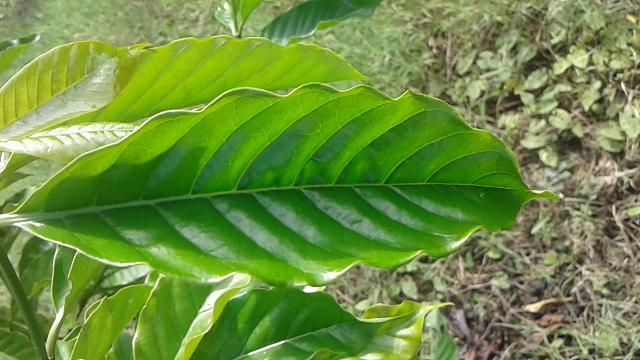healthy: (11, 78, 572, 290)
